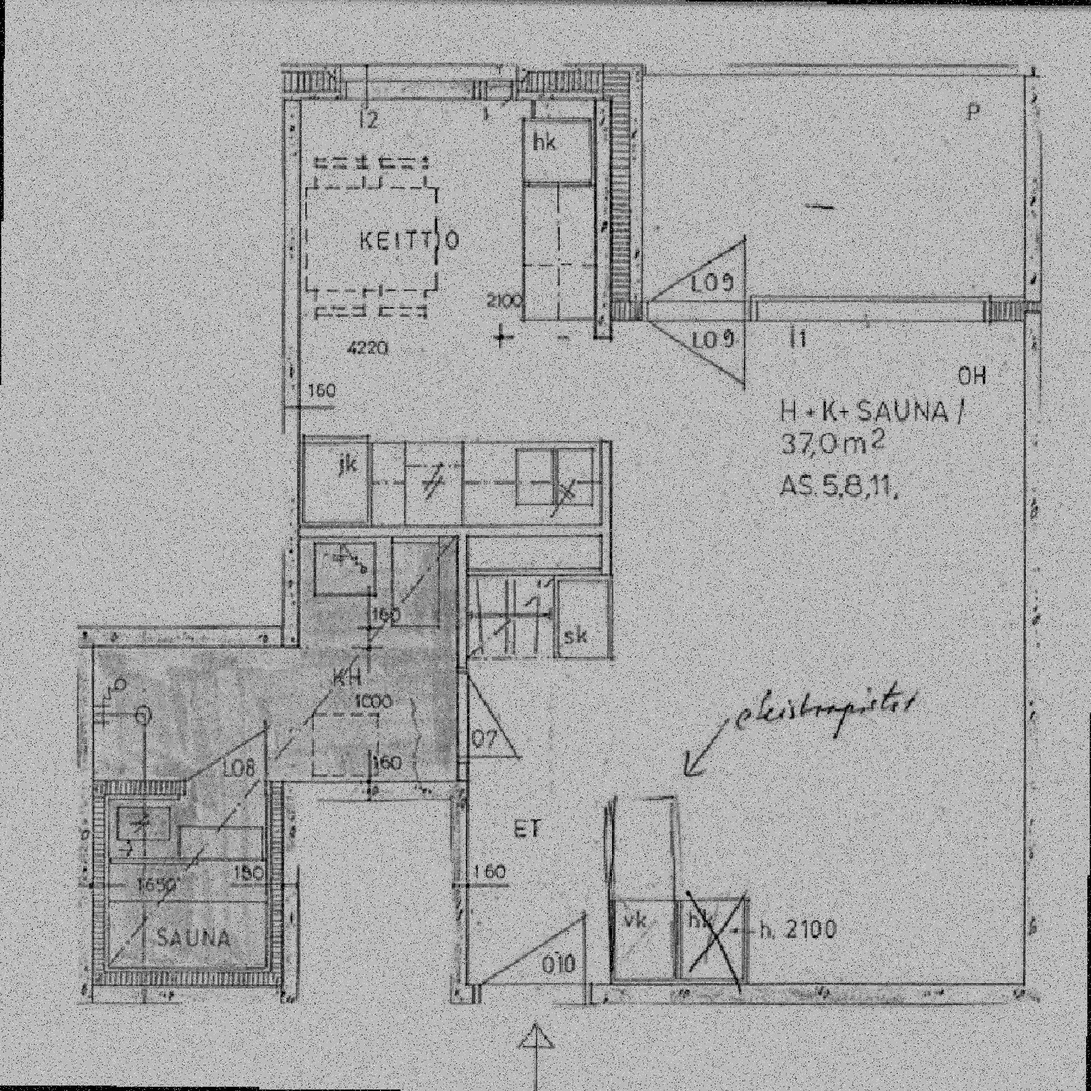wall: (285, 64, 642, 100), (597, 64, 642, 319), (1024, 298, 1040, 1003), (451, 985, 1040, 1004), (282, 64, 301, 647), (596, 298, 1041, 320), (78, 966, 297, 1002), (468, 524, 610, 575), (78, 781, 110, 1002), (266, 780, 297, 1002), (79, 628, 299, 647), (283, 525, 610, 537), (451, 780, 468, 1004), (267, 780, 467, 799), (1025, 77, 1040, 298), (457, 525, 468, 799), (78, 628, 96, 781), (79, 780, 179, 799), (179, 780, 283, 792), (600, 442, 610, 537), (595, 298, 611, 339)
